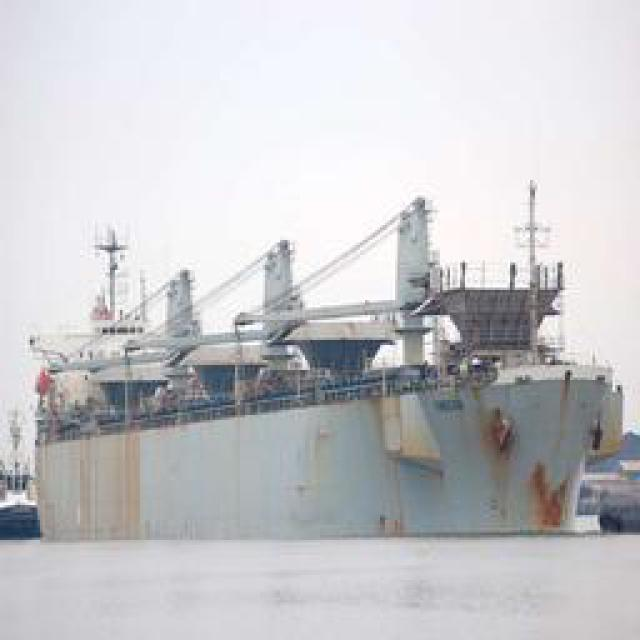Ship: (7, 190, 630, 535)
